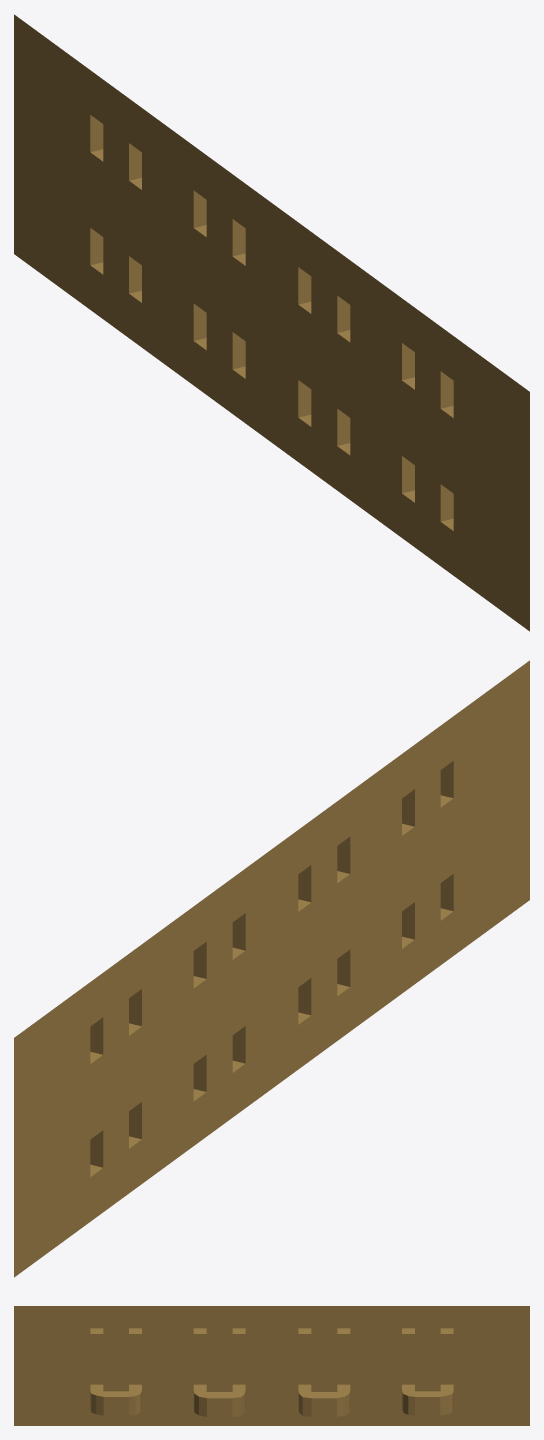
File: wall-weapon_holder.fbx
The picture shows the model from 3 angles, top to bottom: view 1: azimuth 30°, elevation 25°; view 2: azimuth 150°, elevation 25°; view 3: azimuth 270°, elevation 25°; orthographic projection. The views are drawn at different scales.
Visible parts, largest first — view 1: Plane.001; view 2: Plane.001; view 3: Plane.001.
Boxes of the visible parts, x1,y1,x2,y2 form: Plane.001: [14, 14, 529, 631]; Plane.001: [14, 660, 529, 1277]; Plane.001: [14, 1306, 529, 1425].
Size of the model in its own units: 47.89 by 200 by 780.
